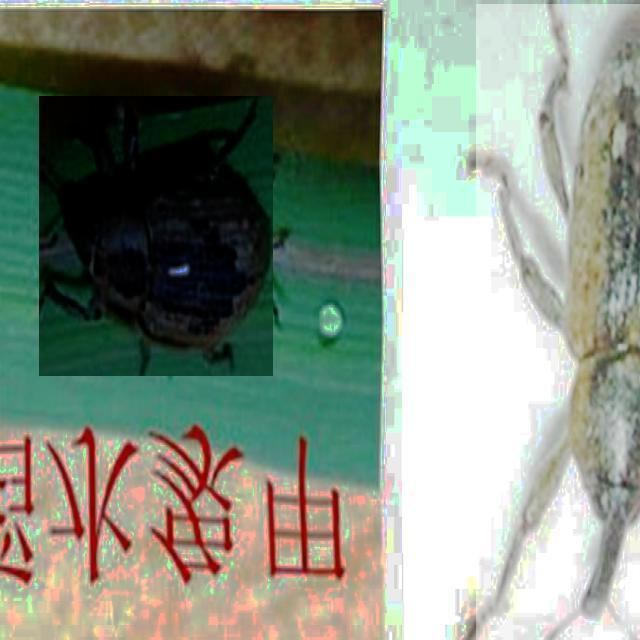rice-bug: (476, 4, 640, 640), (39, 96, 273, 376)
